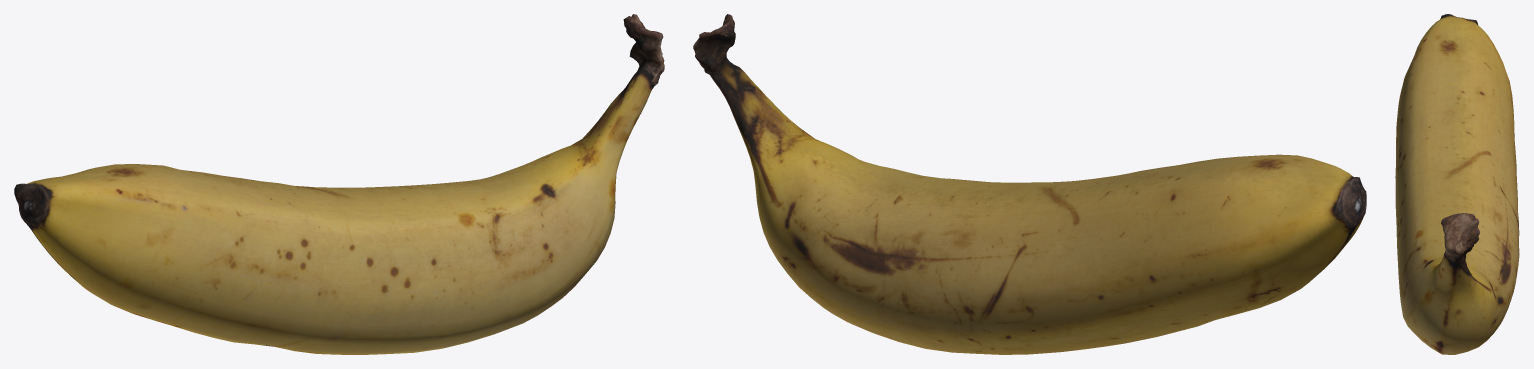
File: fbanana.glb
3 renders of one model, left to right at view 1: azimuth 30°, elevation 25°; view 2: azimuth 150°, elevation 25°; view 3: azimuth 270°, elevation 25°, orthographic. The views are drawn at different scales.
Visible parts, largest first — view 1: banana; view 2: banana; view 3: banana.
Part boxes in pixels (x1=…): banana: x1=14, y1=14, x2=664, y2=354; banana: x1=693, y1=14, x2=1366, y2=354; banana: x1=1395, y1=14, x2=1519, y2=354.
Size of the model in its own units: 0.3391 by 0.1347 by 0.0808.
Materials: 1 (1 with a texture image).
